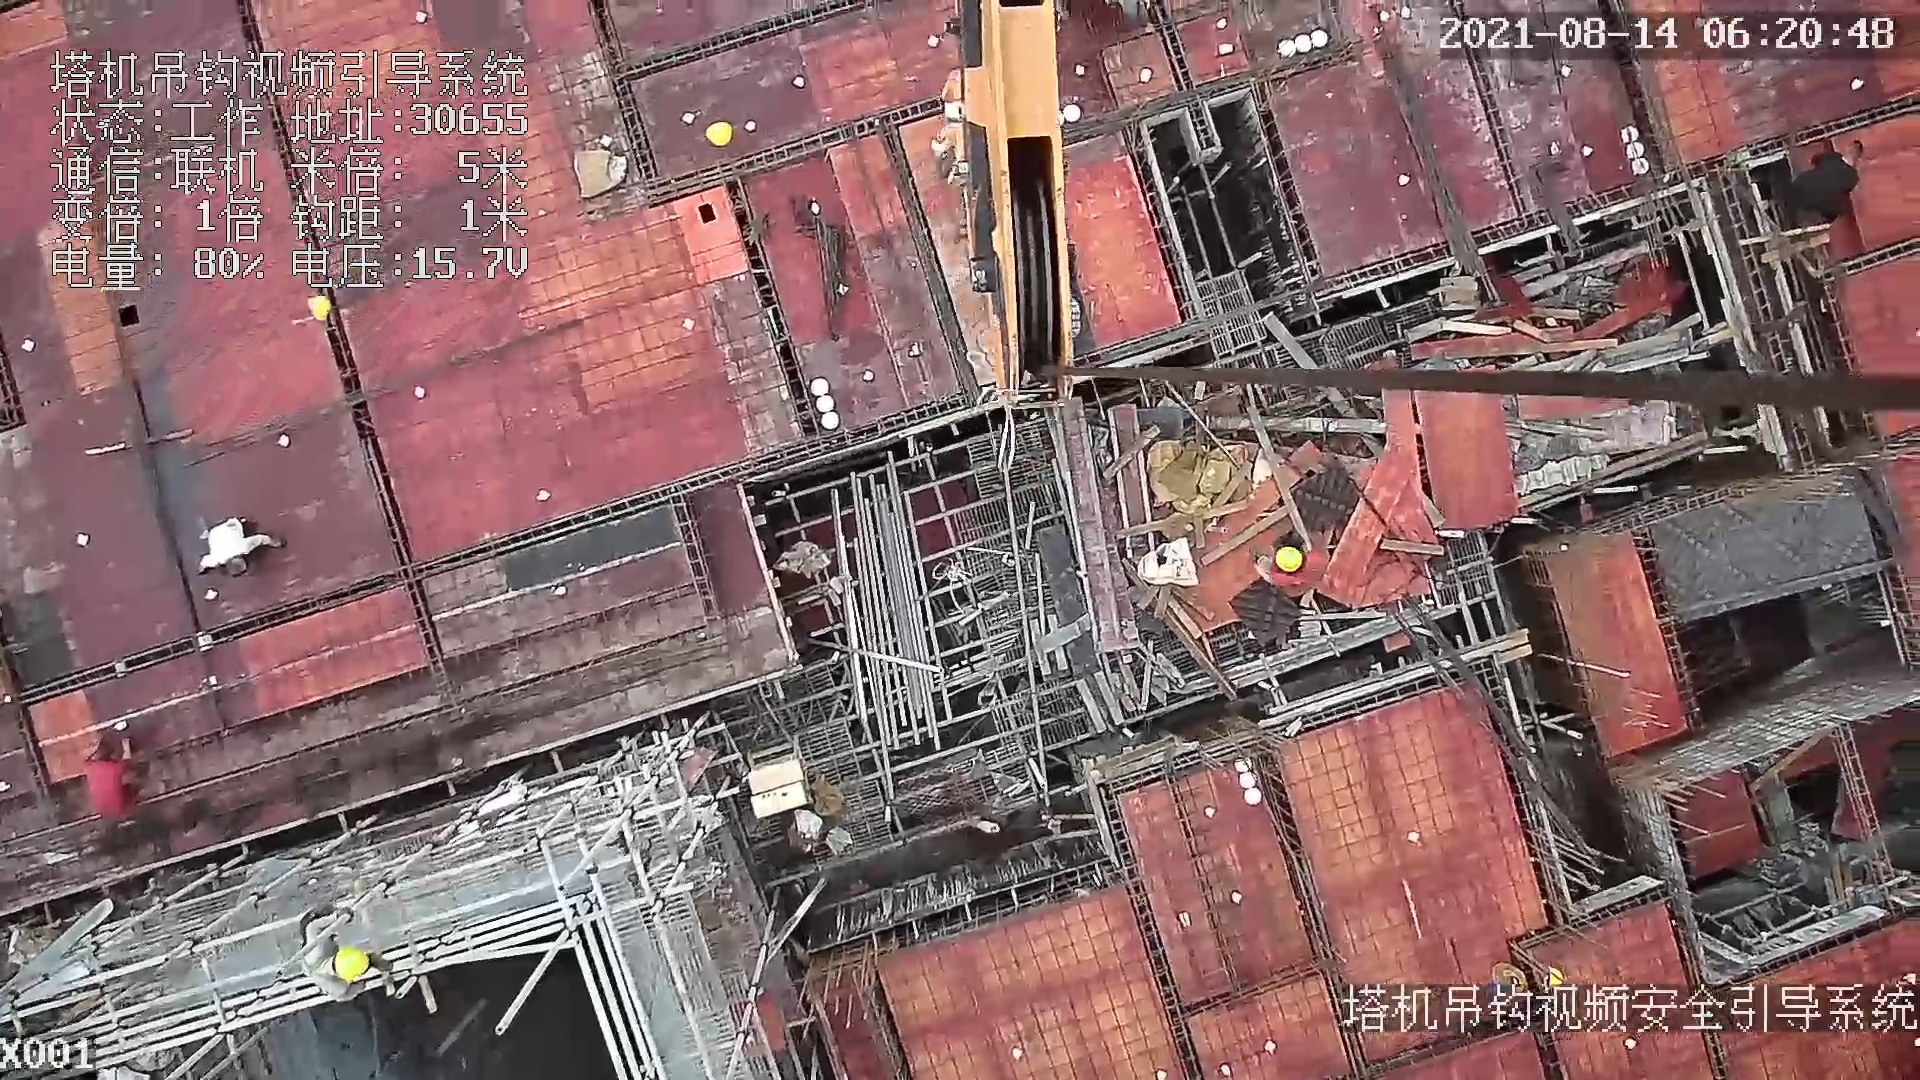helmet: (333, 948, 369, 981), (704, 122, 732, 147), (1274, 547, 1302, 571), (307, 295, 330, 321), (1548, 965, 1563, 986)
person: (299, 908, 390, 997), (1789, 138, 1865, 227), (77, 739, 147, 829), (1259, 519, 1331, 603), (177, 521, 288, 571)
